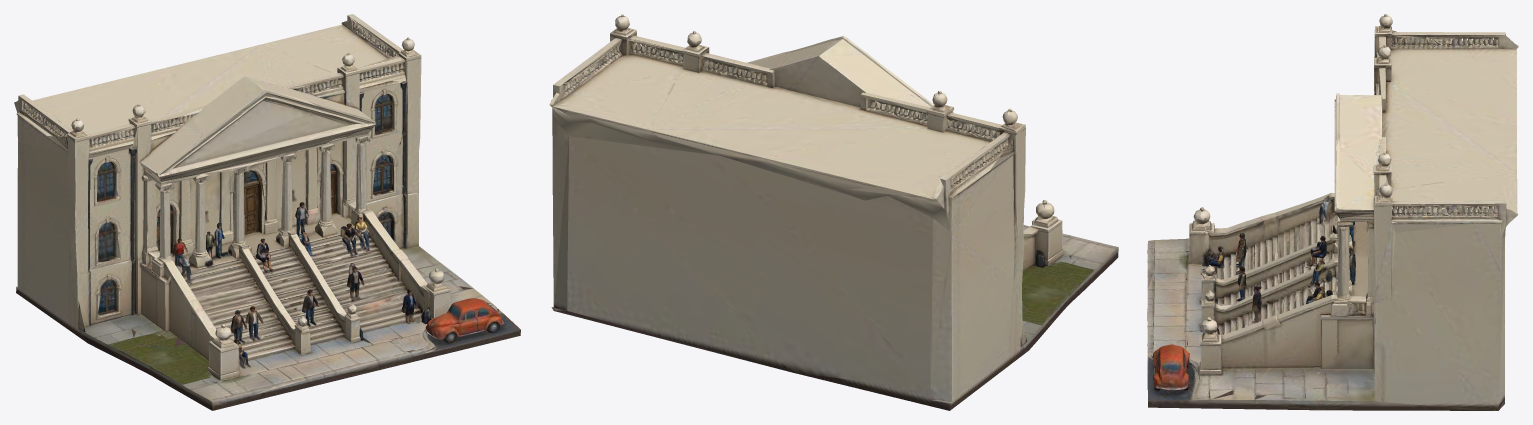
The model's file is universita.glb.
3 views of the same model, side by side, from view 1: azimuth 30°, elevation 25°; view 2: azimuth 150°, elevation 25°; view 3: azimuth 270°, elevation 25° (orthographic). The views are drawn at different scales.
Parts seen in each view (by area): view 1: output_unwrapped; view 2: output_unwrapped; view 3: output_unwrapped.
Part boxes in pixels (x1,y1,x2,y2): output_unwrapped: [14, 14, 520, 410]; output_unwrapped: [549, 14, 1118, 410]; output_unwrapped: [1147, 14, 1518, 410].
Bounding box in the file's own units: 1.9 × 1.15 × 1.68.
Materials: 1 (1 with a texture image).
